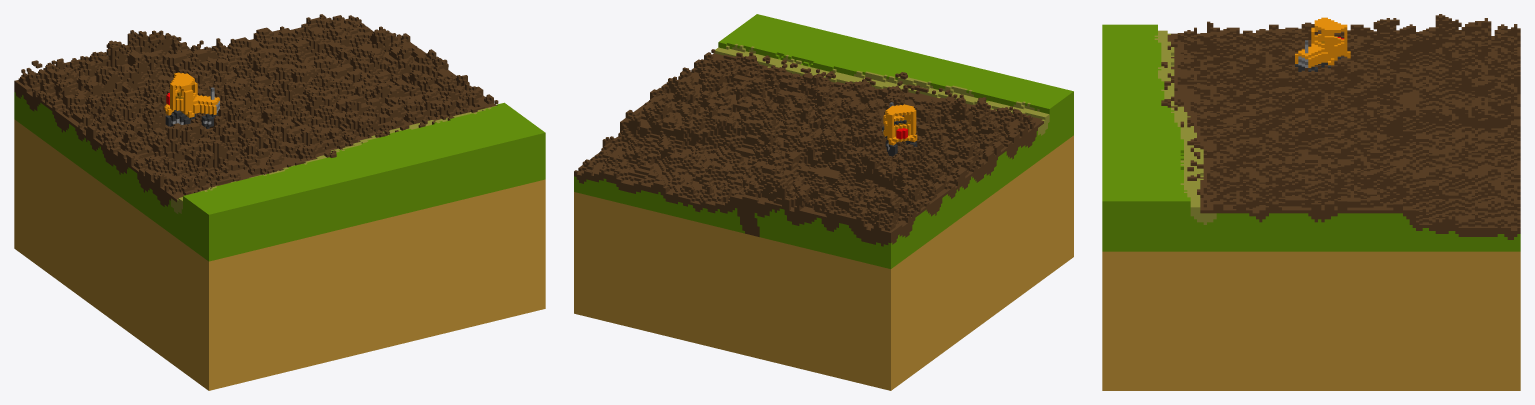
The picture shows the model from 3 angles, left to right: view 1: azimuth 30°, elevation 25°; view 2: azimuth 150°, elevation 25°; view 3: azimuth 270°, elevation 25°; orthographic projection. The views are drawn at different scales.
Parts seen in each view (by area): view 1: 3G; view 2: 3G; view 3: 3G.
Part boxes in pixels (x1,y1,x2,y2): 3G: (14,14,545,390); 3G: (574,14,1073,390); 3G: (1102,14,1520,390).
Bounding box in the file's own units: 12.8 × 7.8 × 12.8.
Materials: 1 (1 with a texture image).
